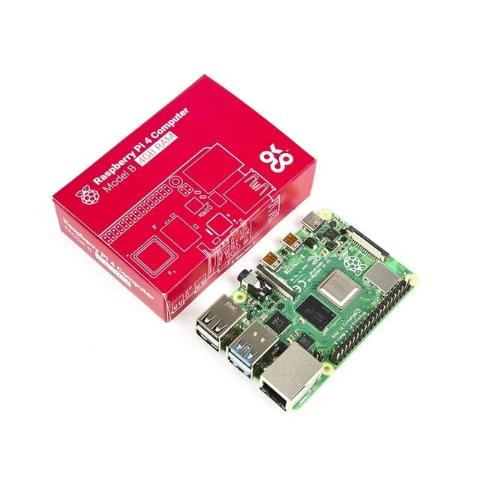Raspberry-Pi-4-Model-B: (188, 201, 422, 419)
